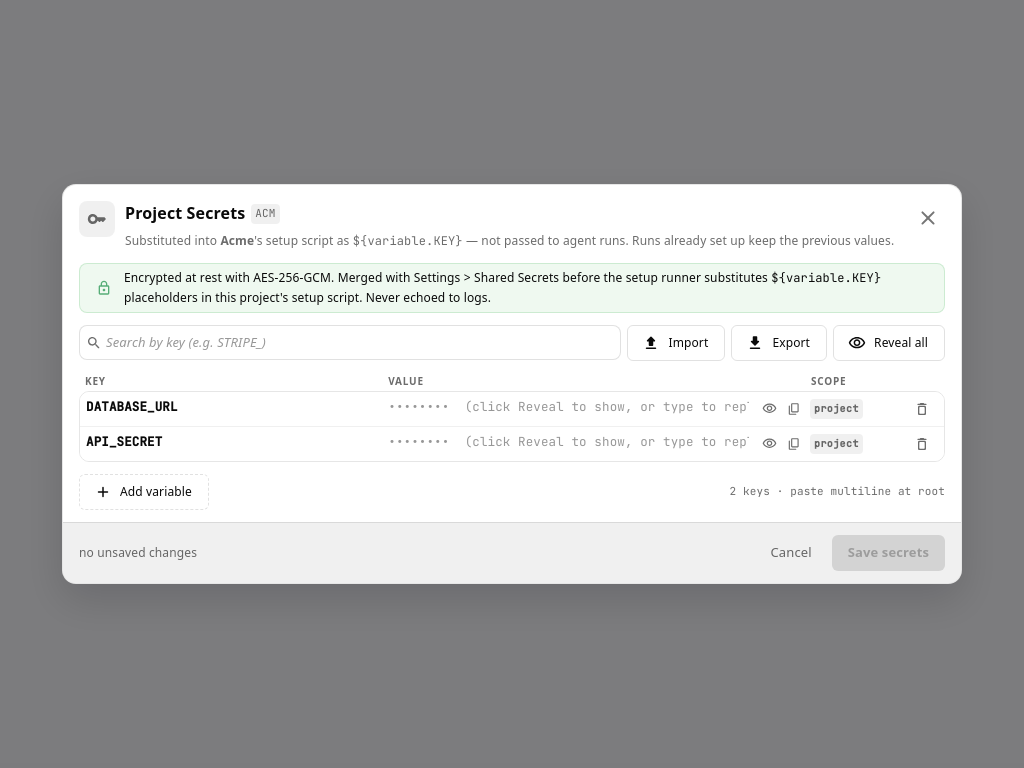
ProjectEnvSecretsModal — revealing stored secrets › fetches the plaintext when a stored row is revealed
The width and height of the screenshot is (1024, 768).
Expected: the 1st field showing "DATABASE_URL" is shown, [86,397,384,421]
Expected: the field showing "postgres://prod/acme" is not shown
Click the 1st button named "Reveal": (770,409) [757,396,782,421]
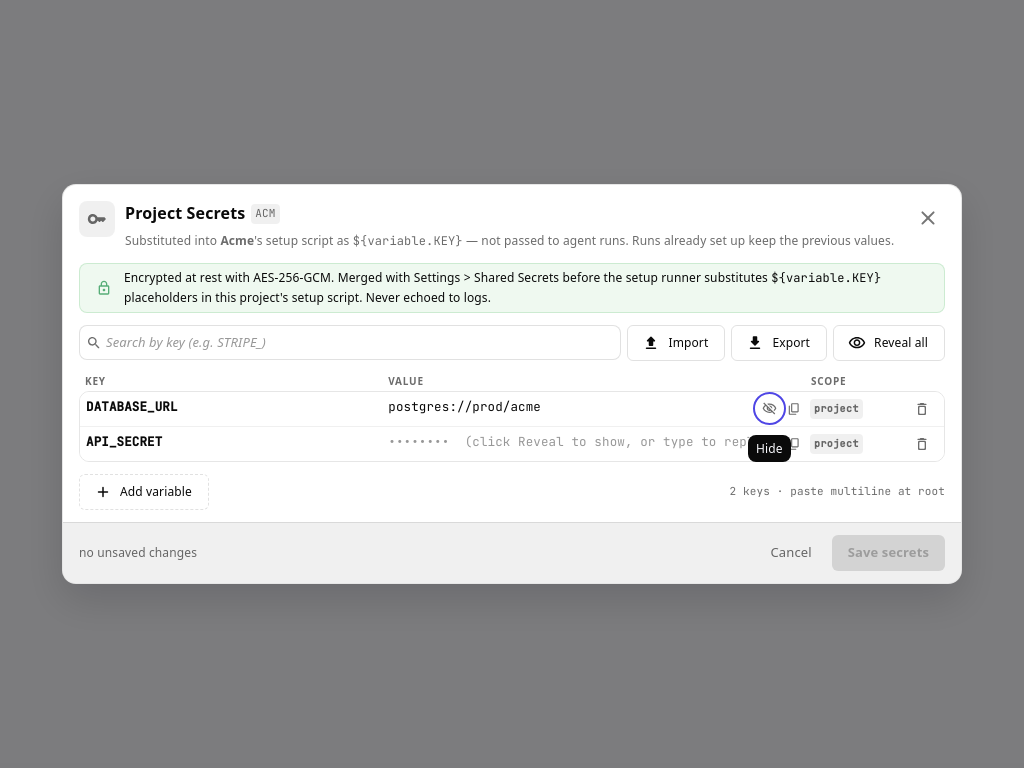
Expected: the 2nd field showing "postgres://prod/acme" is shown, [388,397,749,421]
